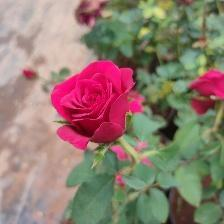rose: (48, 60, 146, 153)
